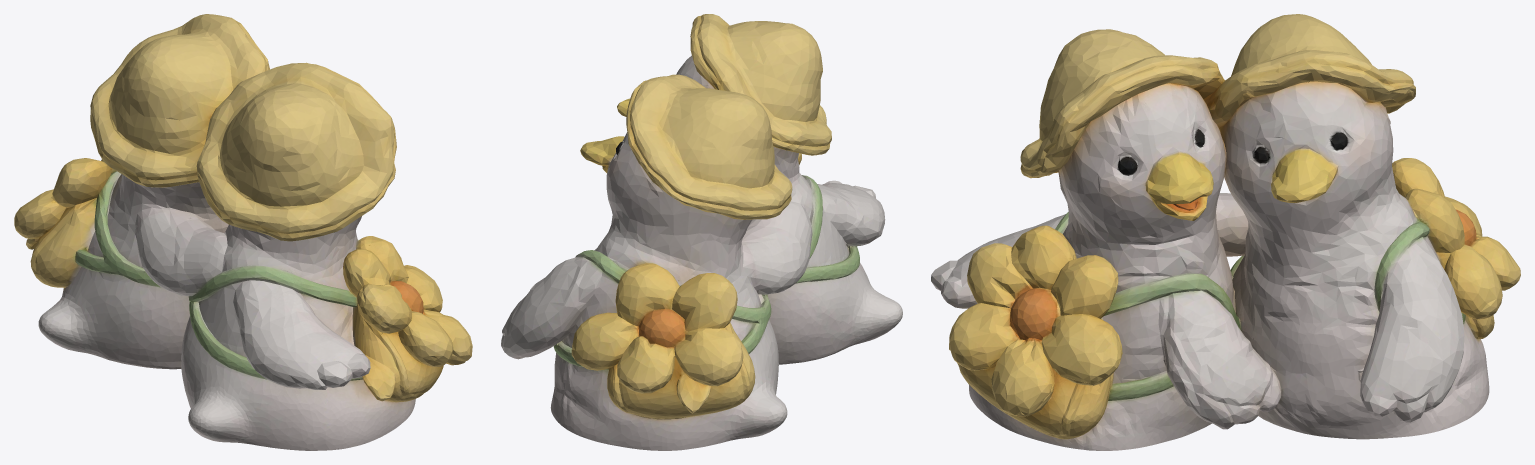
The model's file is goose.glb.
3 renders of one model, left to right at view 1: azimuth 30°, elevation 25°; view 2: azimuth 150°, elevation 25°; view 3: azimuth 270°, elevation 25°, orthographic. The views are drawn at different scales.
Parts seen in each view (by area): view 1: tripo_node_8045d676-4364-41c7-a6f2-3d4ac1142618; view 2: tripo_node_8045d676-4364-41c7-a6f2-3d4ac1142618; view 3: tripo_node_8045d676-4364-41c7-a6f2-3d4ac1142618.
Part boxes in pixels (bbox=[...]): tripo_node_8045d676-4364-41c7-a6f2-3d4ac1142618: bbox=[14, 14, 472, 450]; tripo_node_8045d676-4364-41c7-a6f2-3d4ac1142618: bbox=[501, 14, 902, 450]; tripo_node_8045d676-4364-41c7-a6f2-3d4ac1142618: bbox=[931, 14, 1520, 450].
Size of the model in its own units: 0.604 by 0.6465 by 0.9792.
Materials: 1 (1 with a texture image).
